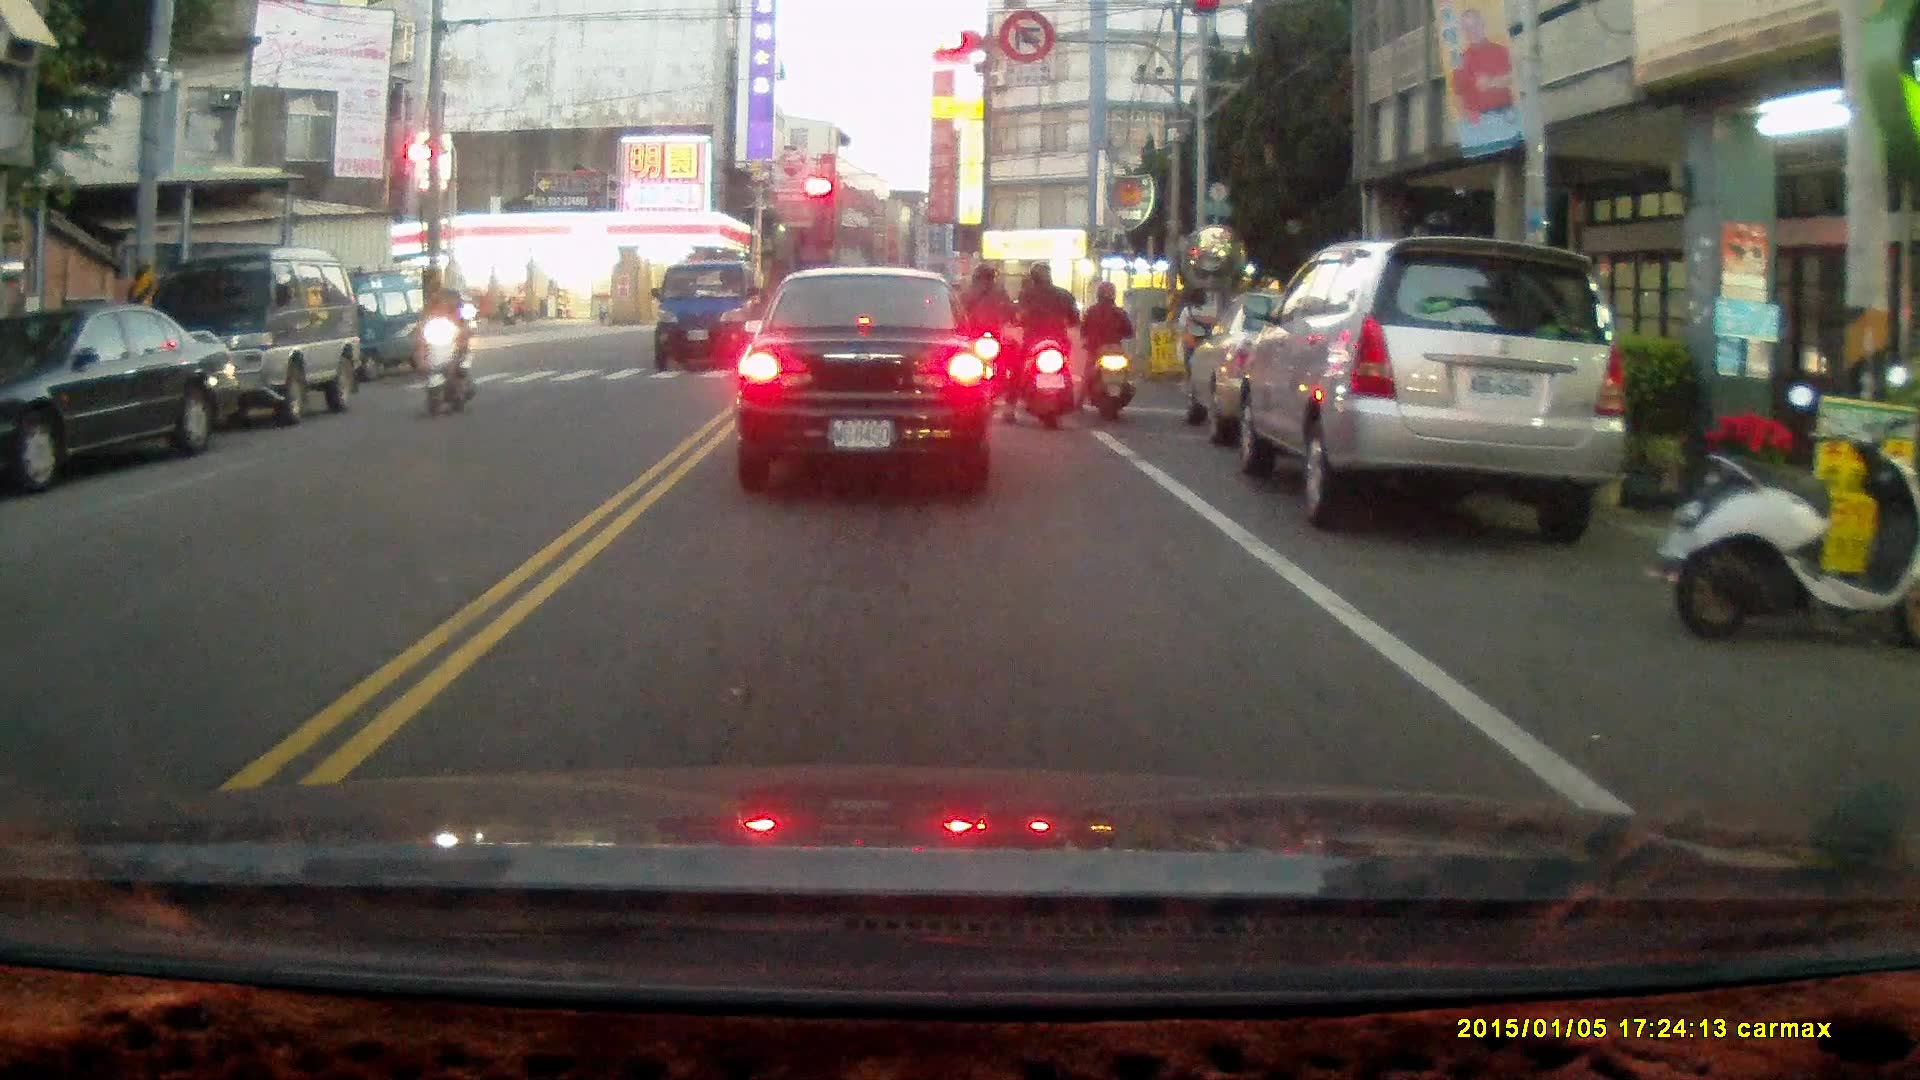pedestrian: (1175, 283, 1220, 404)
rider: (997, 256, 1079, 431), (1074, 278, 1136, 421), (954, 266, 1012, 412), (419, 282, 478, 418)
vehicle: (1227, 236, 1623, 535), (739, 265, 1002, 491), (13, 303, 243, 490), (142, 245, 365, 422), (322, 271, 445, 385), (653, 264, 768, 374)
